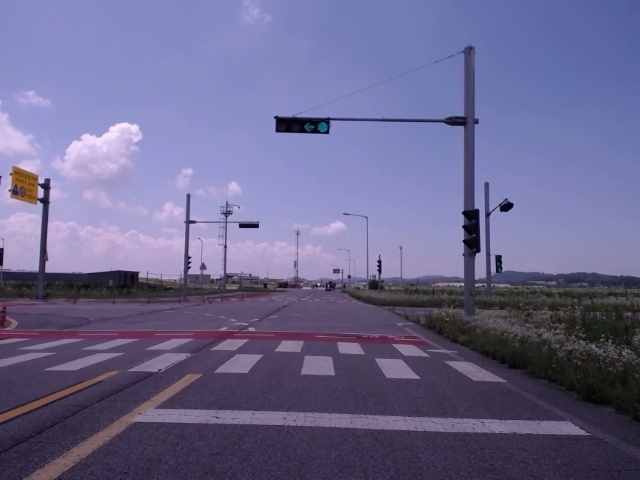all_green_4: (272, 114, 329, 132)
